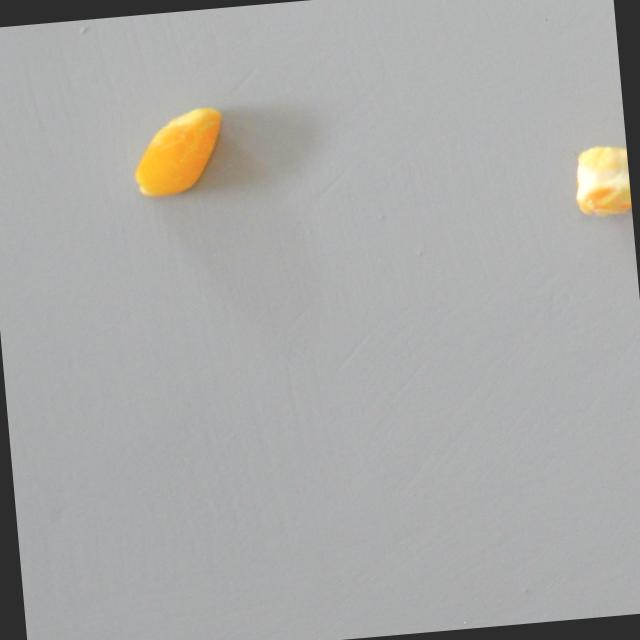pelicula: (126, 105, 233, 198), (570, 139, 633, 228)
